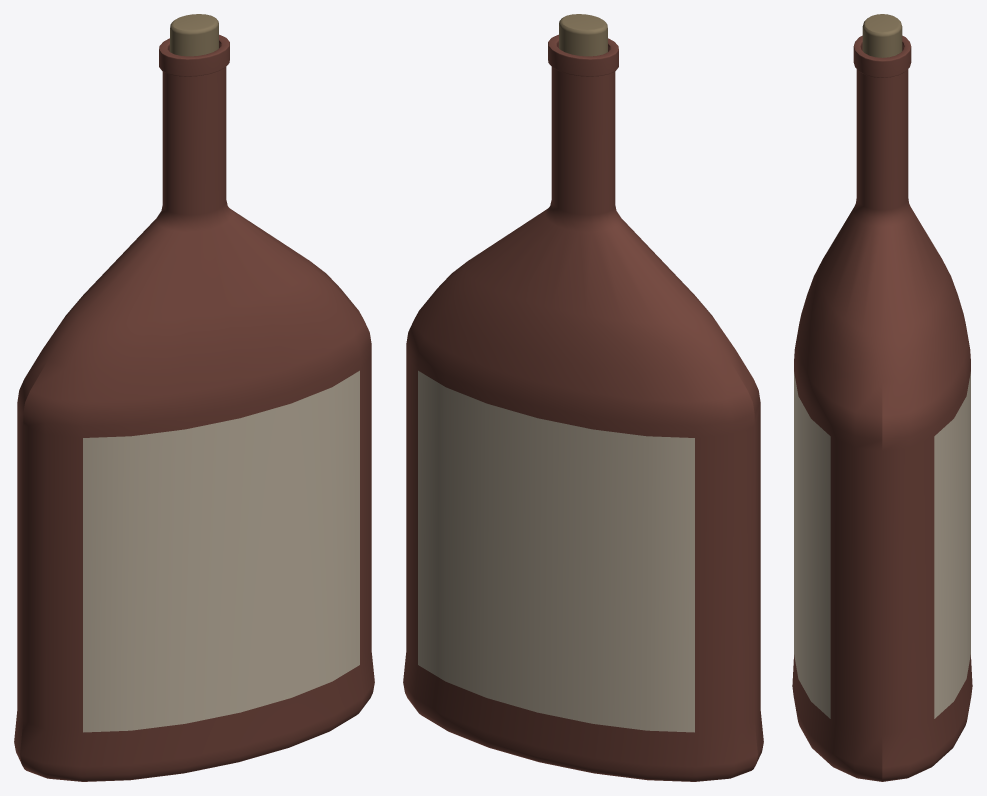
The model's file is red_whiskey_glass.fbx.
3 views of the same model, side by side, from view 1: azimuth 30°, elevation 25°; view 2: azimuth 150°, elevation 25°; view 3: azimuth 270°, elevation 25° (orthographic). The views are drawn at different scales.
Parts seen in each view (by area): view 1: whiskey_bottle; view 2: whiskey_bottle; view 3: whiskey_bottle.
Part boxes in pixels (bbox=[...]): whiskey_bottle: bbox=[14, 14, 374, 781]; whiskey_bottle: bbox=[403, 14, 763, 781]; whiskey_bottle: bbox=[792, 14, 972, 781].
Bounding box in the file's own units: 2.04 × 3.96 × 0.9487.
